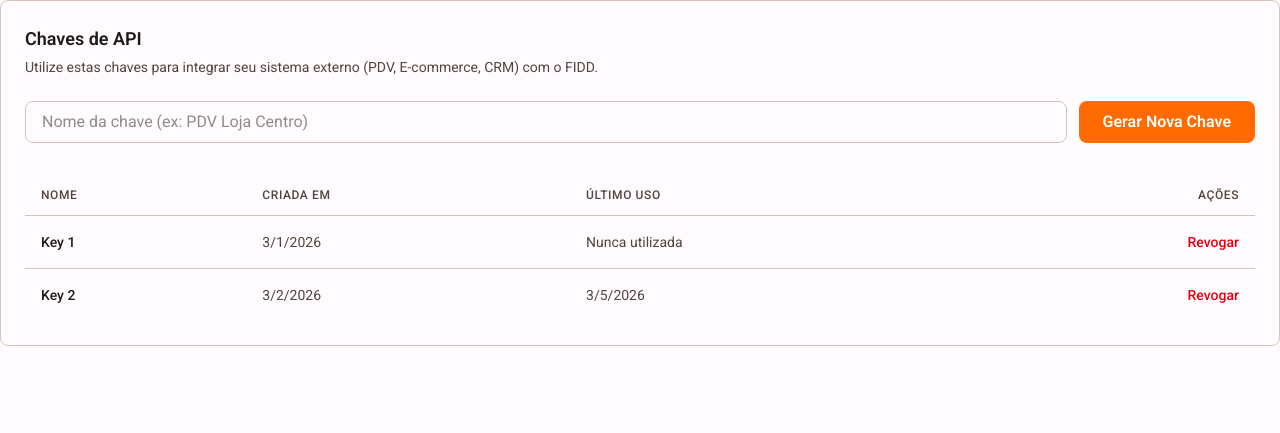
Test: ApiKeysSettings › deve tratar erro ao revogar chave
Expected: the text "Key 1" is shown, [25,216,246,268]
Click the button "Revogar" in the row of "Key 1".
click(1213, 242)  # box [1188,232,1239,252]
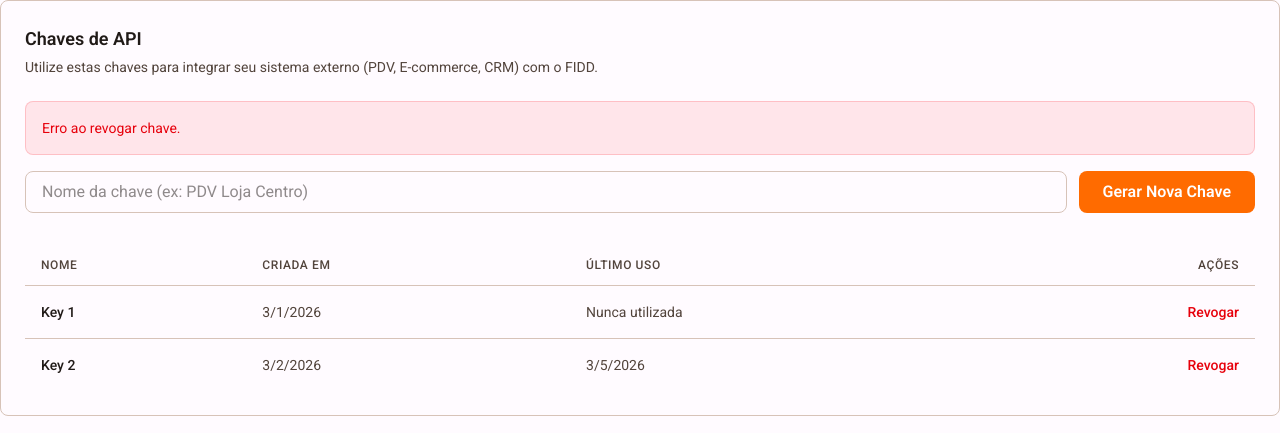
Expected: the text "Key 1" is shown, [25,286,246,338]
Expected: the text "Erro ao revogar chave." is shown, [42,120,180,136]
